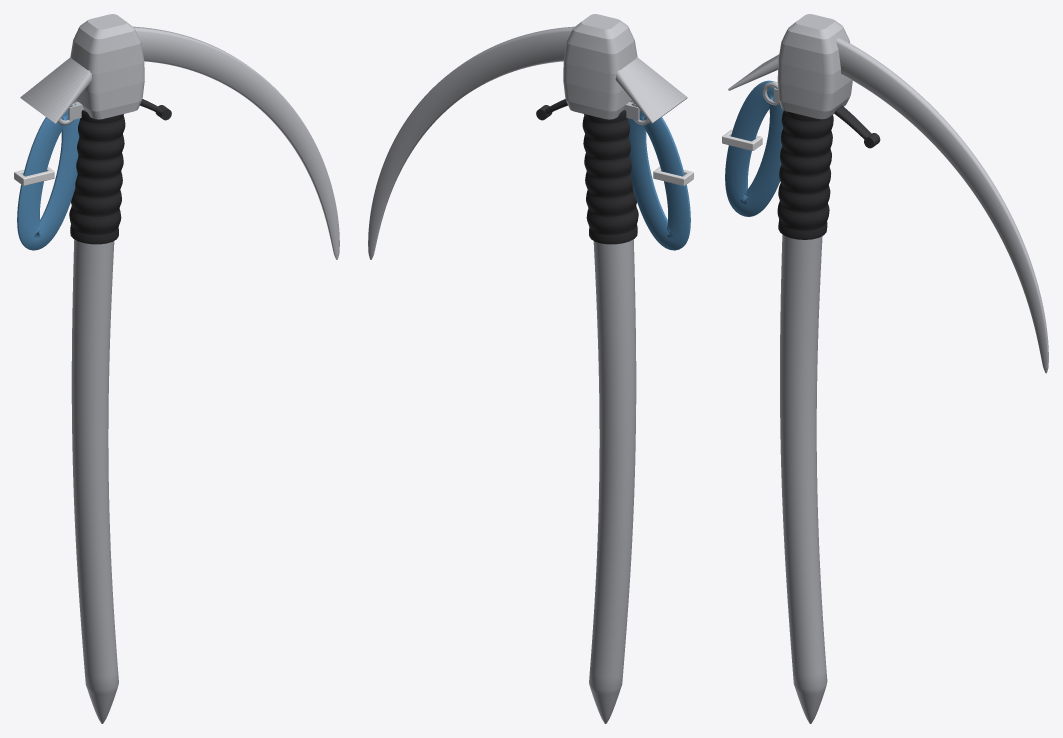
The model's file is ice_axe.fbx.
3 renders of one model, left to right at view 1: azimuth 30°, elevation 25°; view 2: azimuth 150°, elevation 25°; view 3: azimuth 330°, elevation 25°, orthographic.
Parts seen in each view (by area): view 1: AXE_Shaft, AXE_Head, AXE_Grip, AXE_Leash; view 2: AXE_Shaft, AXE_Head, AXE_Grip, AXE_Leash; view 3: AXE_Shaft, AXE_Head, AXE_Grip, AXE_Leash, AXE_Trigger.
Part boxes in pixels (bbox=[...]): AXE_Shaft: bbox=[71, 239, 118, 723]; AXE_Head: bbox=[20, 14, 339, 259]; AXE_Grip: bbox=[69, 110, 125, 244]; AXE_Leash: bbox=[17, 103, 80, 250]; AXE_Shaft: bbox=[589, 239, 636, 723]; AXE_Head: bbox=[368, 14, 687, 259]; AXE_Grip: bbox=[582, 110, 638, 244]; AXE_Leash: bbox=[627, 103, 690, 250]; AXE_Shaft: bbox=[780, 234, 827, 723]; AXE_Head: bbox=[728, 14, 1048, 373]; AXE_Grip: bbox=[777, 110, 833, 239]; AXE_Leash: bbox=[725, 80, 783, 216]; AXE_Trigger: bbox=[834, 105, 880, 148].
Size of the model in its own units: 0.265 by 0.551 by 0.05.
